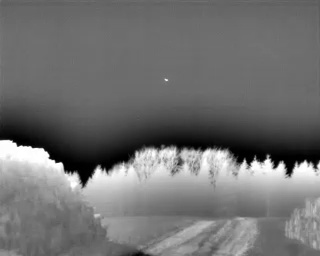AIRPLANE: (163, 76, 170, 84)
